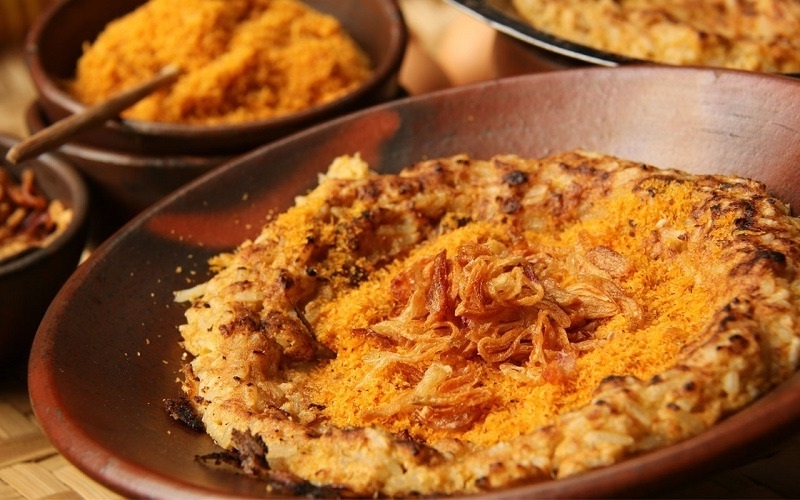kerak_telor: (175, 152, 800, 500)
